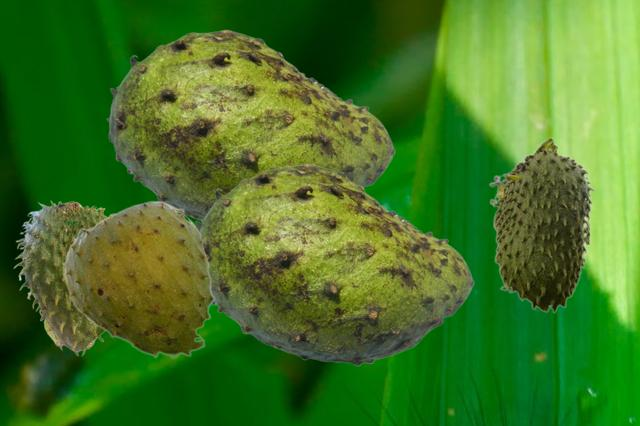guyabano: (194, 163, 473, 365), (106, 29, 394, 220), (61, 200, 214, 359), (489, 136, 595, 312), (13, 200, 113, 355)
